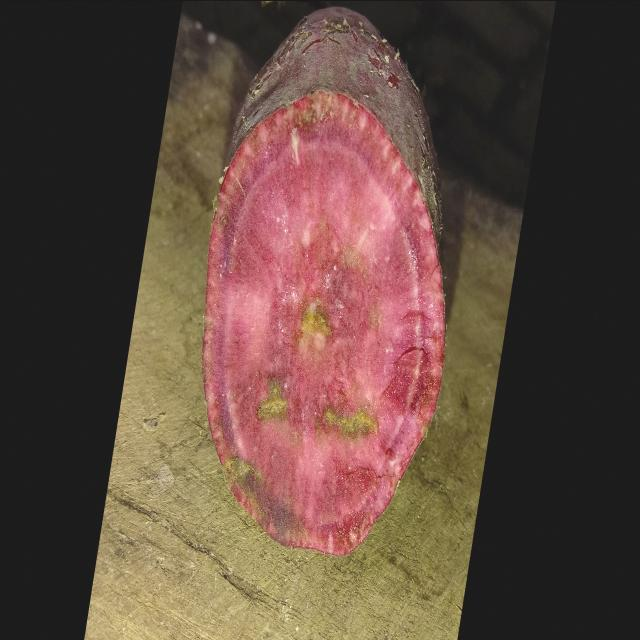Sick Sweet Potato_Tuber Rot: (204, 91, 445, 553)
